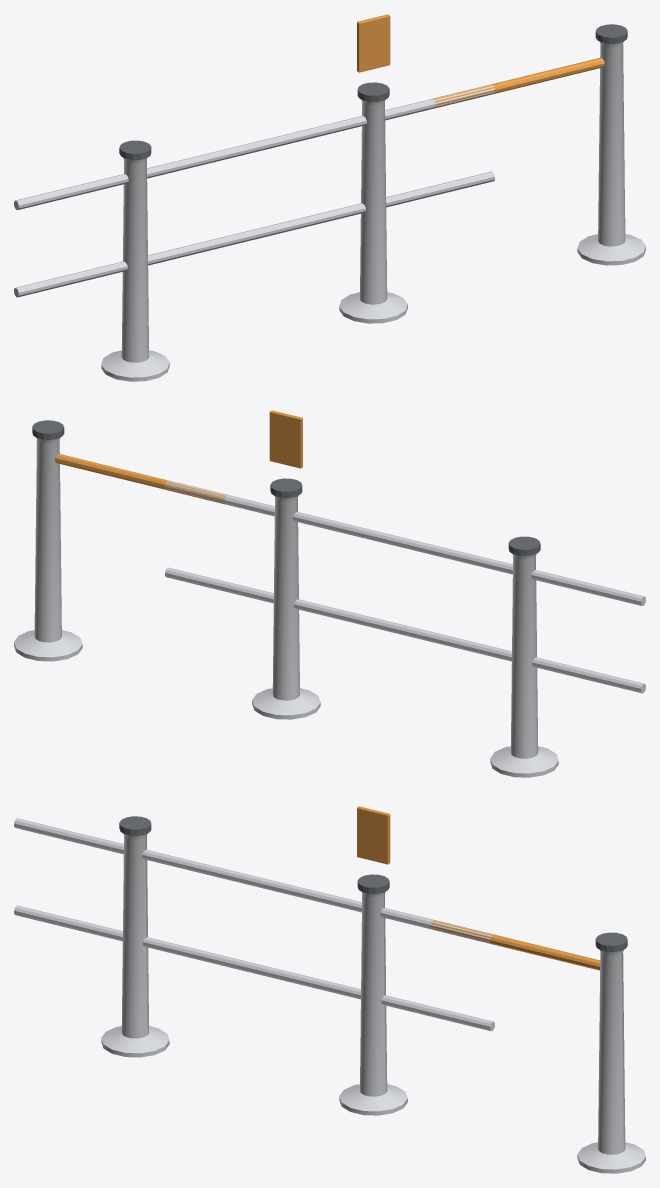
3 renders of one model, top to bottom at view 1: azimuth 30°, elevation 25°; view 2: azimuth 150°, elevation 25°; view 3: azimuth 330°, elevation 25°, orthographic.
Visible parts, largest first — view 1: trade-counter-queue-rail; view 2: trade-counter-queue-rail; view 3: trade-counter-queue-rail.
Boxes of the visible parts, x1,y1,x2,y2 form: trade-counter-queue-rail: (14, 14, 645, 381); trade-counter-queue-rail: (14, 410, 645, 777); trade-counter-queue-rail: (14, 806, 645, 1173).
Bounding box in the file's own units: 3.15 × 1.4 × 0.2926.
